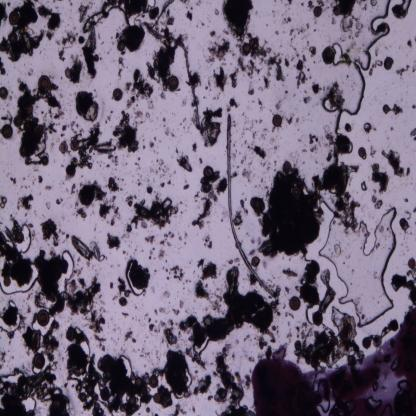Air bubble: (322, 208, 399, 324), (0, 266, 41, 295), (57, 247, 76, 294), (11, 224, 34, 252), (360, 181, 369, 193), (308, 1, 314, 9)
Background material: (178, 264, 279, 358), (250, 165, 324, 261), (36, 249, 103, 320), (293, 310, 365, 370), (65, 326, 107, 416), (0, 367, 72, 415), (98, 352, 152, 415), (13, 83, 50, 166), (315, 162, 359, 227), (212, 348, 254, 416), (0, 215, 36, 287), (190, 164, 228, 231), (125, 186, 178, 233), (235, 41, 290, 85), (156, 350, 192, 408), (0, 27, 46, 61), (24, 321, 61, 362), (94, 179, 124, 226), (222, 2, 254, 44), (113, 109, 141, 157), (124, 70, 155, 112), (77, 121, 102, 170), (102, 0, 150, 23), (82, 27, 102, 81), (70, 235, 107, 264), (341, 0, 364, 46), (302, 258, 323, 308), (199, 104, 222, 146), (206, 27, 232, 64), (327, 130, 354, 161), (392, 273, 416, 307), (120, 24, 148, 53), (383, 150, 412, 178), (150, 320, 178, 347), (58, 31, 82, 61), (128, 260, 150, 292), (144, 235, 170, 262), (38, 5, 62, 32), (370, 163, 391, 193), (114, 277, 132, 310), (149, 158, 176, 180), (78, 92, 98, 121), (40, 218, 60, 247), (206, 293, 228, 319), (89, 315, 107, 345), (328, 80, 345, 111), (0, 302, 21, 326), (174, 150, 194, 175), (46, 95, 64, 122), (212, 66, 228, 95), (20, 2, 39, 26), (66, 61, 84, 86), (242, 113, 258, 141), (192, 374, 212, 396), (198, 258, 218, 278), (392, 0, 413, 19), (167, 262, 185, 283), (296, 60, 308, 90), (234, 199, 247, 226), (306, 131, 320, 155), (194, 282, 212, 300), (16, 195, 36, 211), (319, 124, 335, 144), (290, 26, 310, 42), (117, 52, 129, 78), (252, 142, 269, 160), (106, 231, 122, 250), (369, 58, 384, 77), (230, 63, 240, 91), (395, 64, 416, 77), (108, 175, 124, 192), (139, 344, 154, 361), (170, 401, 187, 416), (124, 328, 136, 347), (77, 4, 89, 23), (240, 166, 252, 184), (289, 43, 299, 63), (0, 109, 14, 123), (390, 102, 404, 116), (0, 3, 8, 27), (70, 119, 80, 138), (399, 218, 411, 233), (240, 139, 255, 151), (149, 7, 161, 22), (203, 234, 214, 250), (282, 267, 298, 278), (165, 9, 175, 26), (371, 195, 384, 208), (308, 45, 320, 59), (312, 82, 324, 96), (362, 118, 372, 134), (75, 207, 88, 219), (104, 109, 113, 125), (58, 123, 66, 140), (409, 125, 416, 144), (182, 0, 194, 11), (283, 113, 294, 125), (229, 98, 240, 110), (0, 54, 6, 76), (125, 193, 135, 206), (0, 350, 8, 366), (0, 193, 8, 209), (228, 257, 242, 266), (246, 83, 255, 97), (204, 78, 212, 93), (165, 126, 175, 138), (261, 182, 269, 197), (149, 135, 156, 151), (256, 96, 264, 110), (190, 138, 198, 152), (171, 307, 181, 318), (23, 66, 34, 76), (282, 13, 292, 24), (259, 128, 269, 139), (47, 121, 56, 133), (134, 158, 143, 170), (160, 306, 169, 318), (407, 36, 414, 51), (274, 97, 282, 110), (238, 154, 247, 165), (345, 122, 354, 133), (178, 300, 186, 312), (111, 155, 119, 167), (186, 10, 194, 22), (370, 145, 378, 157), (97, 342, 106, 352), (152, 306, 160, 317), (143, 310, 150, 322), (149, 281, 155, 295), (37, 174, 44, 186), (44, 201, 52, 211), (212, 92, 222, 100), (270, 123, 278, 133), (71, 182, 77, 195), (160, 91, 168, 100), (272, 158, 278, 170), (135, 179, 143, 188), (45, 31, 54, 39), (302, 97, 310, 106), (122, 232, 129, 242), (46, 181, 52, 192), (57, 196, 65, 204), (11, 176, 19, 184), (388, 124, 396, 132), (231, 171, 239, 179), (317, 0, 326, 7), (409, 103, 416, 112), (412, 201, 416, 215), (163, 290, 170, 298), (147, 186, 154, 194), (63, 234, 70, 241), (26, 304, 32, 312), (160, 114, 166, 122), (168, 231, 173, 240), (184, 184, 191, 190), (121, 311, 128, 317), (158, 181, 164, 188), (166, 180, 173, 186), (185, 232, 189, 242), (8, 332, 12, 342), (60, 228, 65, 236), (194, 0, 202, 5), (302, 53, 306, 62), (110, 281, 114, 290), (21, 185, 30, 189), (332, 19, 338, 25), (296, 114, 300, 122), (215, 9, 219, 16), (258, 117, 262, 124), (141, 145, 146, 150), (245, 337, 250, 342), (284, 88, 288, 94), (178, 235, 182, 241), (70, 2, 74, 7), (179, 199, 183, 204), (276, 31, 280, 36), (288, 0, 293, 4), (123, 249, 126, 255), (405, 198, 408, 204), (106, 164, 110, 168), (297, 138, 301, 142), (199, 160, 203, 164), (65, 382, 68, 387), (202, 21, 204, 26), (135, 248, 137, 250), (184, 243, 186, 244)
Cellulose filter fibre: (146, 22, 201, 130)
Diatom: (200, 164, 215, 194), (78, 184, 96, 206), (94, 141, 117, 153), (37, 74, 52, 92), (322, 47, 335, 65), (37, 310, 50, 327), (33, 352, 45, 370), (7, 10, 20, 26), (1, 124, 14, 139), (169, 76, 180, 93), (288, 296, 300, 311), (33, 124, 45, 138), (312, 312, 323, 327), (292, 186, 303, 201), (8, 32, 20, 45), (272, 113, 283, 127), (66, 327, 76, 342), (241, 41, 251, 56), (58, 141, 69, 154), (283, 160, 293, 174), (251, 254, 260, 269), (100, 388, 111, 400), (66, 165, 76, 178), (406, 256, 416, 269), (15, 230, 24, 244), (0, 86, 9, 100), (25, 102, 34, 116), (13, 115, 23, 127), (332, 4, 342, 16), (362, 336, 372, 348), (390, 317, 398, 332), (112, 88, 122, 100), (150, 374, 158, 389), (313, 5, 322, 18), (70, 139, 80, 150), (152, 393, 161, 405), (358, 146, 367, 158), (384, 57, 392, 70), (116, 42, 126, 52), (3, 276, 12, 287), (41, 155, 49, 167), (80, 392, 87, 403), (383, 105, 390, 115)
Hair: (224, 113, 275, 300)
Pen: (252, 313, 416, 414)
